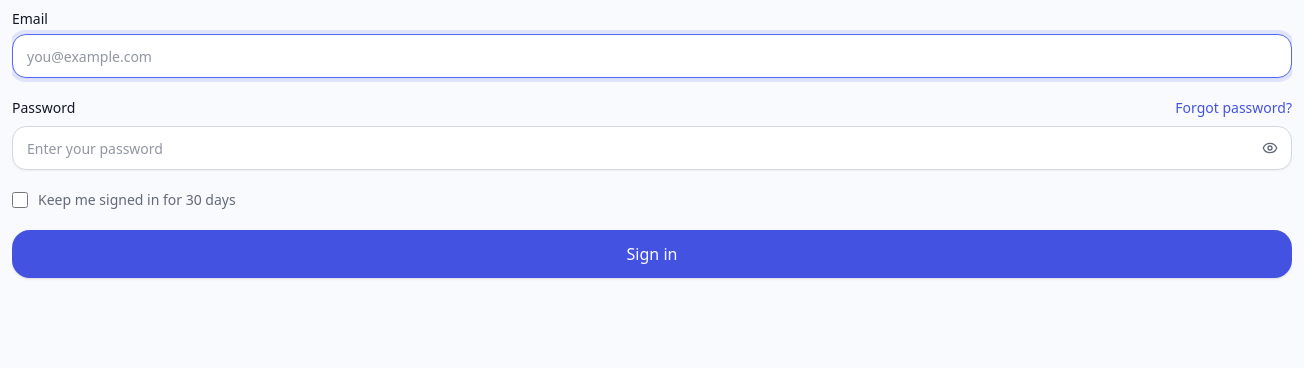
Test: LoginForm › shows the server message when credentials are wrong
The image size is (1304, 368).
Type "asha@leen.dev" into the field labelled "Email" at (652, 56), box [12,34,1292,78]
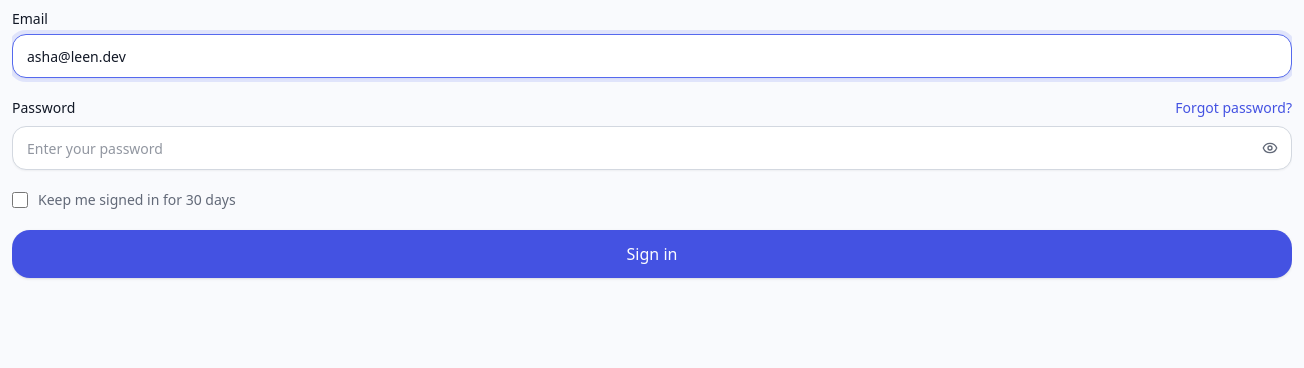
Type "wrong-pass1" into the password field labelled "Password" at (652, 148), box [12,126,1292,170]
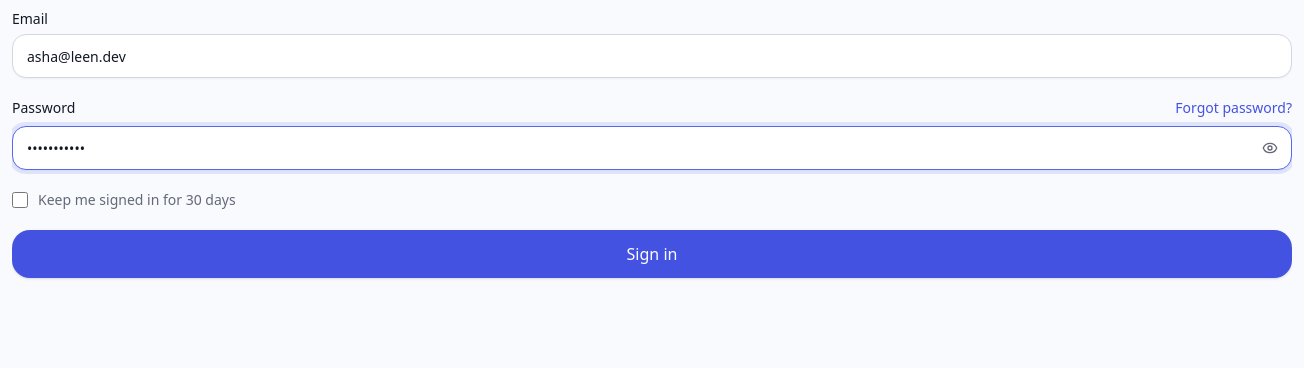
Click the button "Sign in" at (652, 254), box [12,230,1292,278]
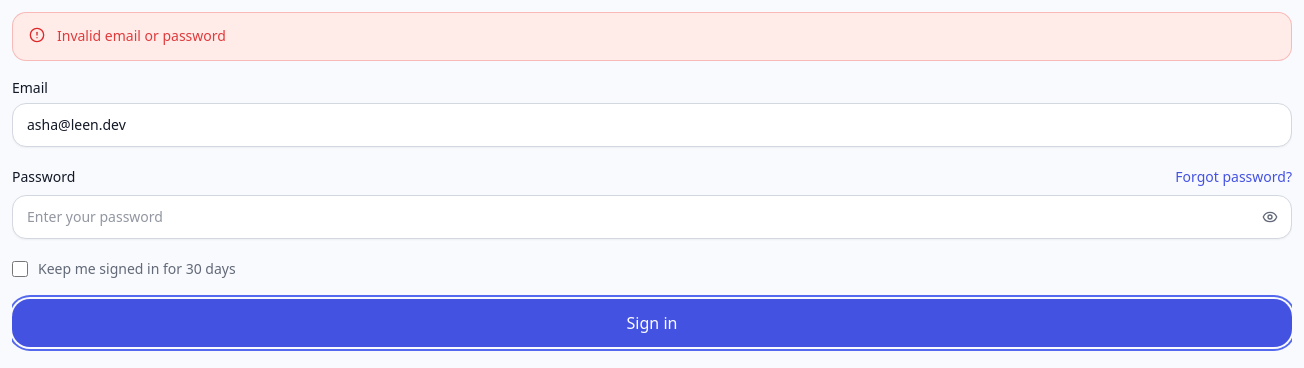
expect the message reads "Invalid email or password": met, box [57,26,226,45]
expect the password field labelled "Password" is empty: met, box [12,195,1292,239]
